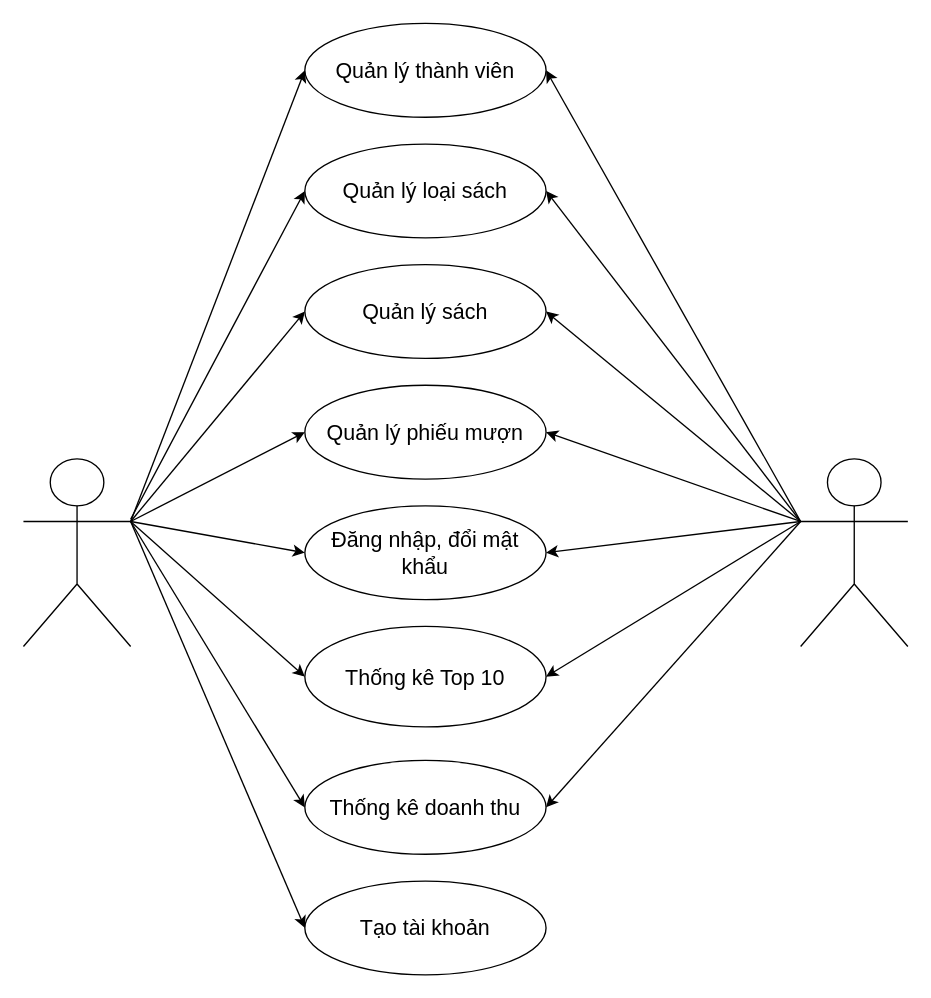
Some shapes in this 931 by 998 pixel diagram are drawn without their labels. Each missing label, with the box of its shape:
Admin: (22, 458, 131, 647)
Thủ thư: (799, 458, 908, 647)
